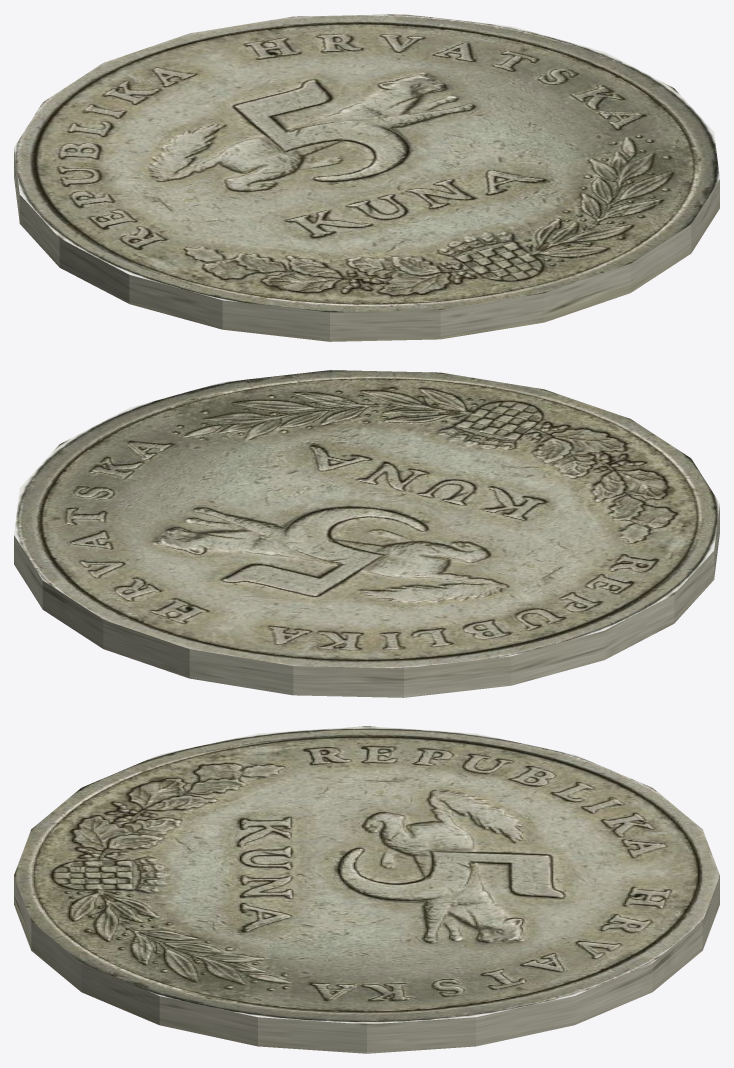
Rendered from kuna.fbx.
The picture shows the model from 3 angles, top to bottom: view 1: azimuth 30°, elevation 25°; view 2: azimuth 150°, elevation 25°; view 3: azimuth 270°, elevation 25°; orthographic projection.
Parts seen in each view (by area): view 1: Cylinder; view 2: Cylinder; view 3: Cylinder.
Boxes of the visible parts, x1,y1,x2,y2 form: Cylinder: (14, 14, 719, 341); Cylinder: (14, 370, 719, 697); Cylinder: (14, 726, 719, 1053).
Bounding box in the file's own units: 200 × 9.13 × 200.
1 material, 1 textured.
